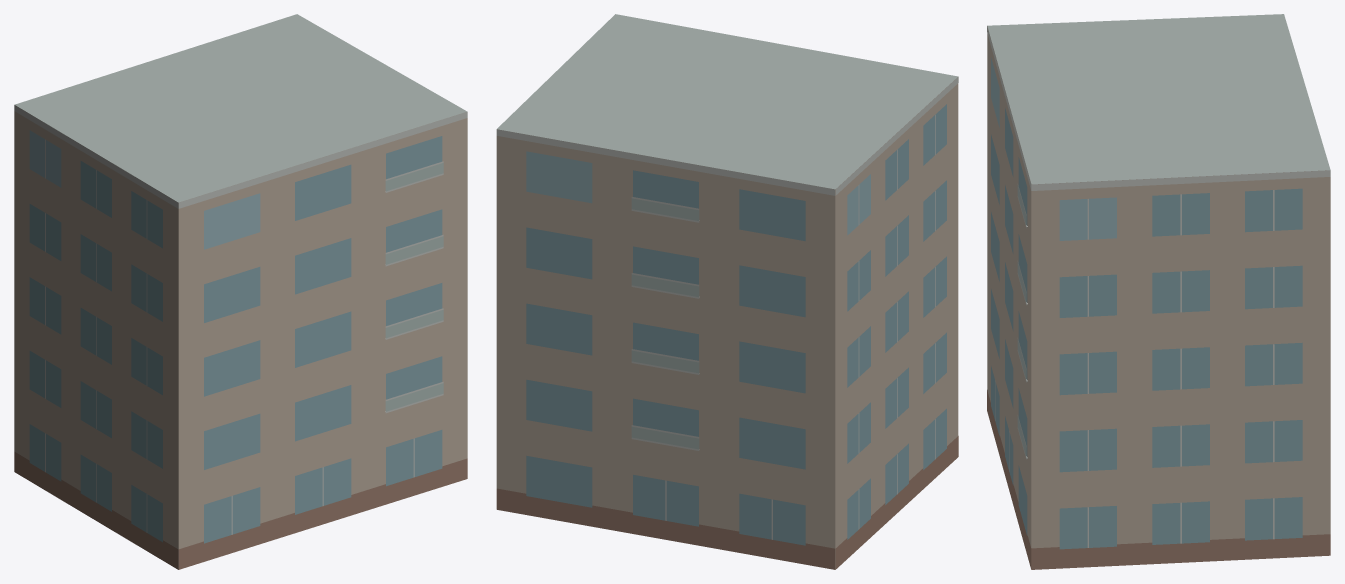
The model's file is survey-upis-32620230.glb.
3 views of the same model, side by side, from view 1: azimuth 30°, elevation 25°; view 2: azimuth 150°, elevation 25°; view 3: azimuth 270°, elevation 25° (orthographic). The views are drawn at different scales.
Visible parts, largest first — view 1: survey-upis-32620230.tmp; view 2: survey-upis-32620230.tmp; view 3: survey-upis-32620230.tmp.
Boxes of the visible parts, x1,y1,x2,y2 form: survey-upis-32620230.tmp: (14, 14, 467, 569); survey-upis-32620230.tmp: (496, 14, 958, 569); survey-upis-32620230.tmp: (987, 14, 1330, 569).
Size of the model in its own units: 13.38 by 14.1 by 11.39.
